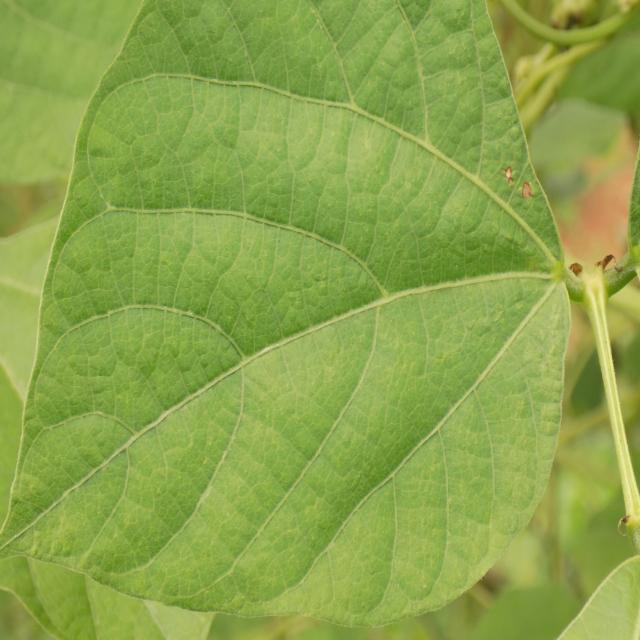Dolicos bean_healthy: (0, 0, 573, 629)
